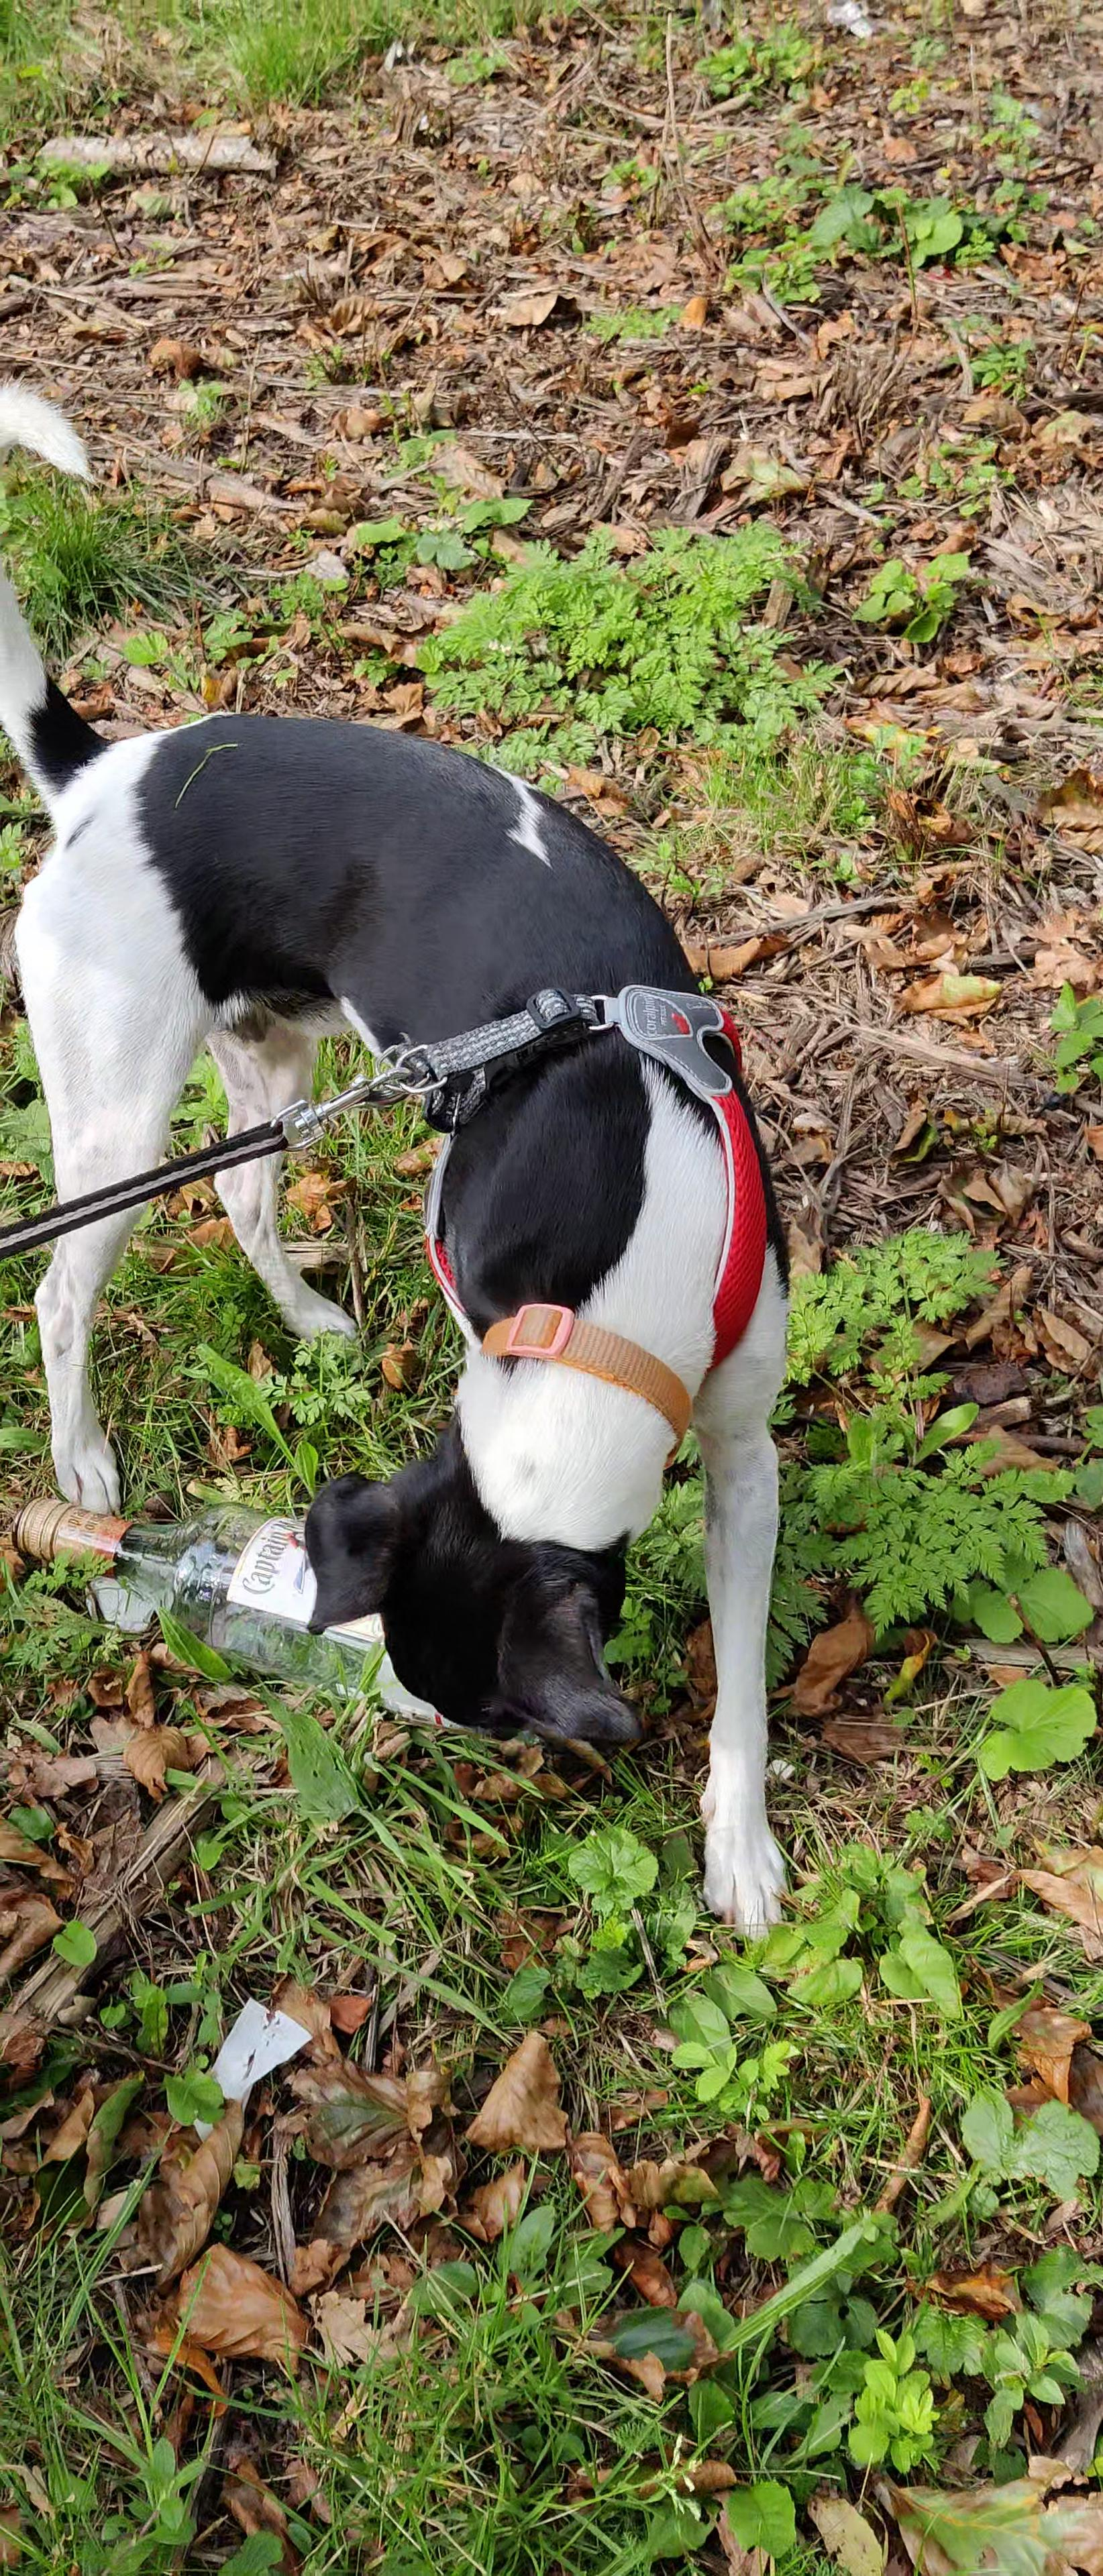Dog: (0, 378, 804, 1953)
